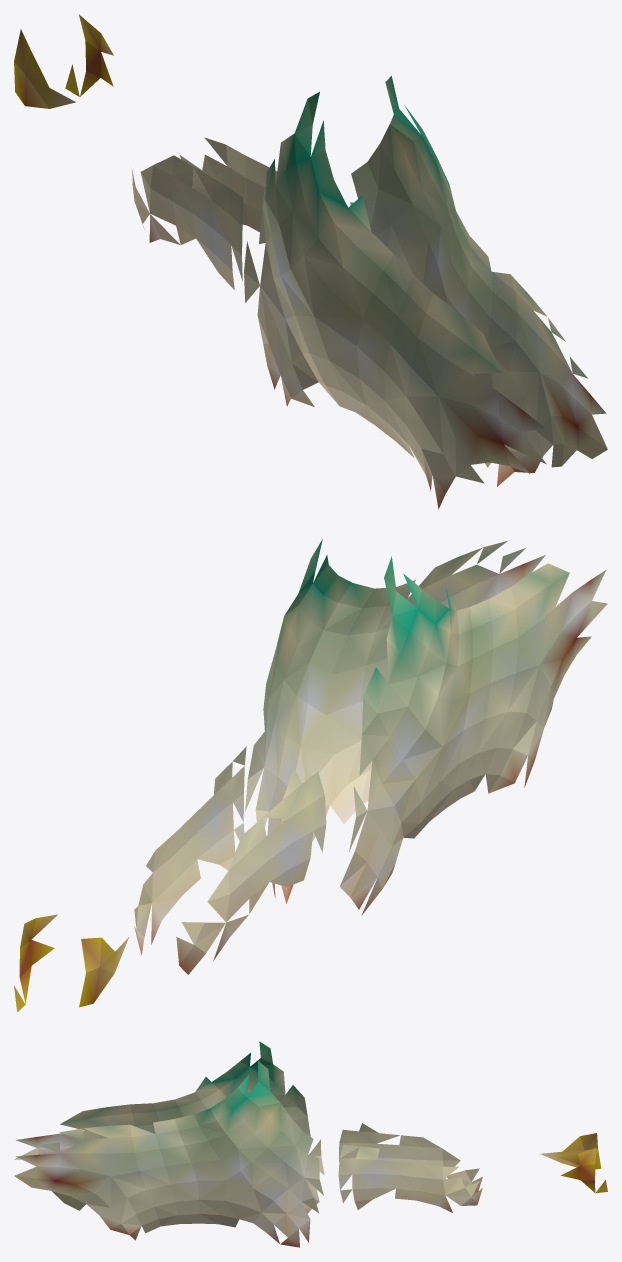
Rendered from freshwater-fish-far.glb.
3 renders of one model, top to bottom at view 1: azimuth 30°, elevation 25°; view 2: azimuth 150°, elevation 25°; view 3: azimuth 270°, elevation 25°, orthographic. The views are drawn at different scales.
Parts seen in each view (by area): view 1: LifeLensNativeFarIdleBody; view 2: LifeLensNativeFarIdleBody; view 3: LifeLensNativeFarIdleBody.
Part boxes in pixels (<box>): LifeLensNativeFarIdleBody: <box>14,14,607,509</box>; LifeLensNativeFarIdleBody: <box>14,539,607,1012</box>; LifeLensNativeFarIdleBody: <box>14,1041,607,1247</box>.
Size of the model in its own units: 0.0766 by 0.186 by 0.5332.
